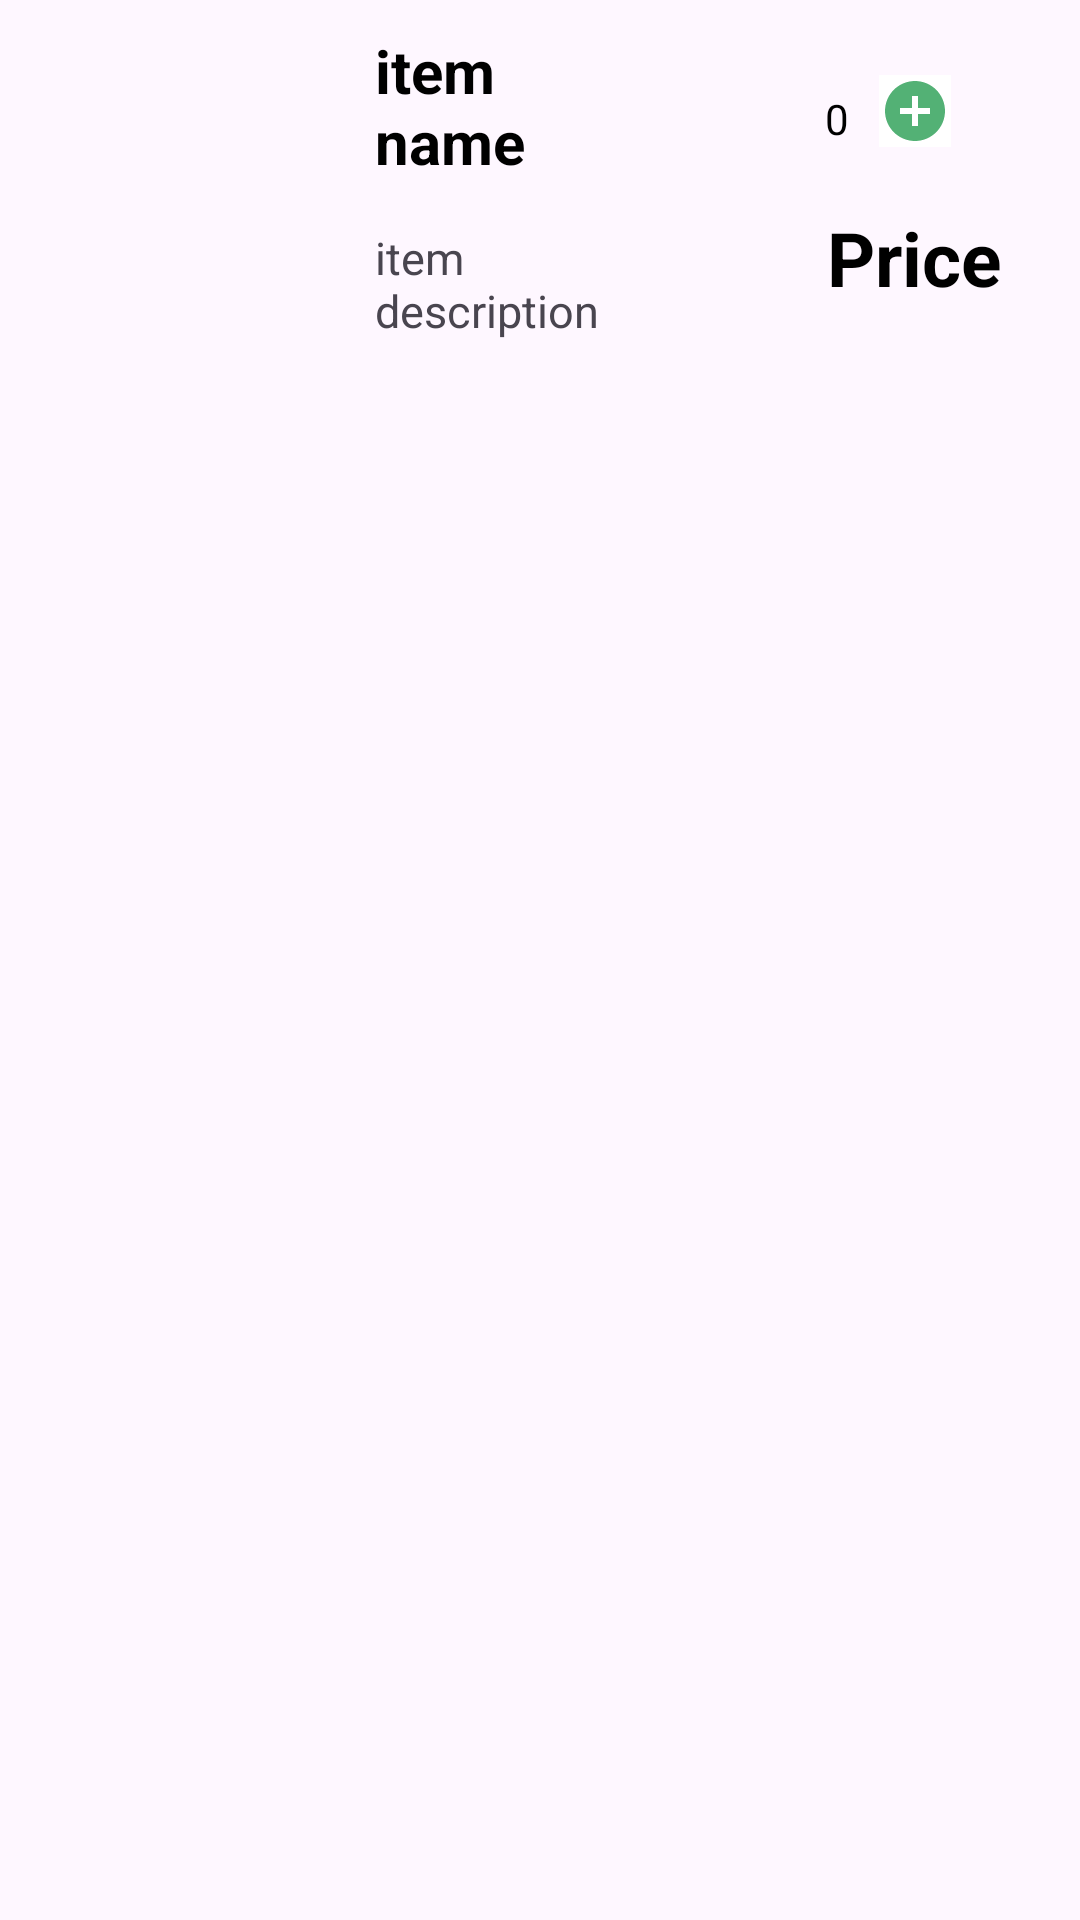

Icons on this 1080*1920 Android screen, each with its box as bbox(x1, y1, x2, y2):
add circle: bbox(885, 81, 945, 141)
